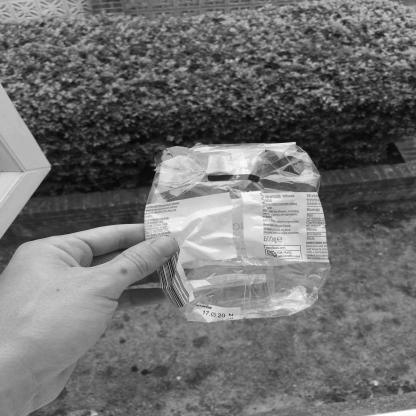plastic: (152, 140, 333, 321)
